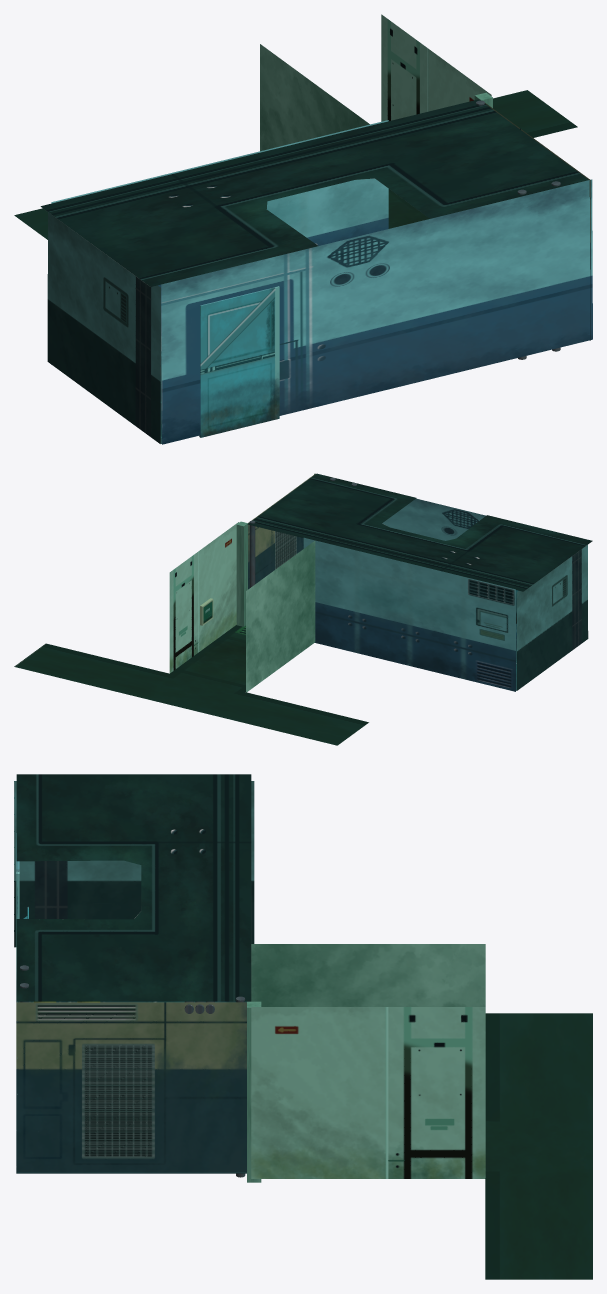
File: environment.fbx
The picture shows the model from 3 angles, top to bottom: view 1: azimuth 30°, elevation 25°; view 2: azimuth 150°, elevation 25°; view 3: azimuth 270°, elevation 25°; orthographic projection. The views are drawn at different scales.
Parts seen in each view (by area): view 1: pPlane16, pPlane13, pPlane23, pCube10, pPlane14, pPlane18, pPlane19, pPlane17; view 2: pPlane14, pPlane13, pPlane17, pPlane19, pPlane23, pPlane18, pPlane16, pPlane15, pCube11, pCylinder6; view 3: pPlane13, pPlane18, pPlane15, pPlane17, pPlane19, pPlane23, pCube11.
Part boxes in pixels (x1,y1,x2,y2): pPlane16: (161,179,592,444); pPlane13: (40,99,588,286); pPlane23: (47,212,160,443); pCube10: (199,286,279,437); pPlane14: (51,120,388,364); pPlane18: (381,14,491,121); pPlane19: (260,44,369,151); pPlane17: (14,90,577,239); pPlane14: (303,537,515,691); pPlane13: (247,473,592,591); pPlane17: (14,625,368,745); pPlane19: (246,541,315,692); pPlane23: (516,545,588,690); pPlane18: (169,522,238,673); pPlane16: (314,473,485,540); pPlane15: (248,473,315,589); pCube11: (236,521,247,626); pCylinder6: (249,520,255,587); pPlane13: (16,774,251,1001); pPlane18: (251,1007,485,1178); pPlane15: (16,1002,246,1173); pPlane17: (485,1013,592,1279); pPlane19: (251,944,485,1006); pPlane23: (14,781,254,947); pCube11: (247,1001,261,1182).
Bounding box in the file's own units: 13.25 × 3.25 × 9.65.
19 materials, 19 textured.
